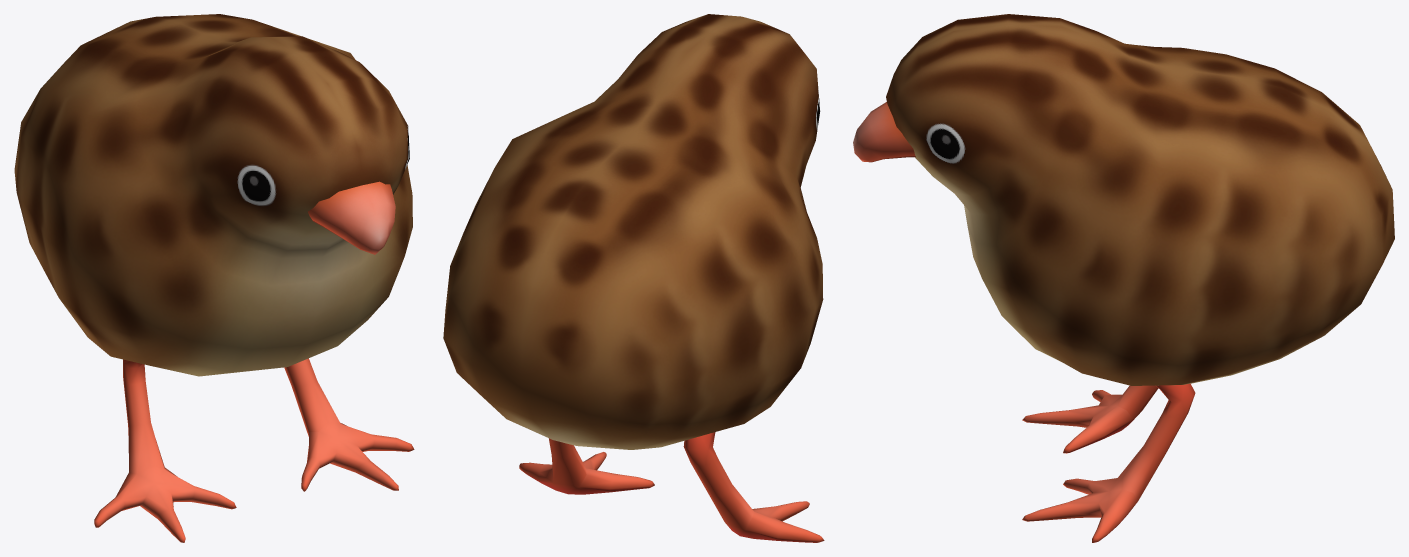
File: quail.gltf
The picture shows the model from 3 angles, left to right: view 1: azimuth 30°, elevation 25°; view 2: azimuth 150°, elevation 25°; view 3: azimuth 270°, elevation 25°; orthographic projection. The views are drawn at different scales.
Visible parts, largest first — view 1: quail; view 2: quail; view 3: quail.
Boxes of the visible parts, x1,y1,x2,y2 form: quail: (14,14,414,542); quail: (443,14,824,542); quail: (853,14,1394,542).
Bounding box in the file's own units: 0.6187 × 0.8343 × 0.9145.
1 material, 1 textured.
